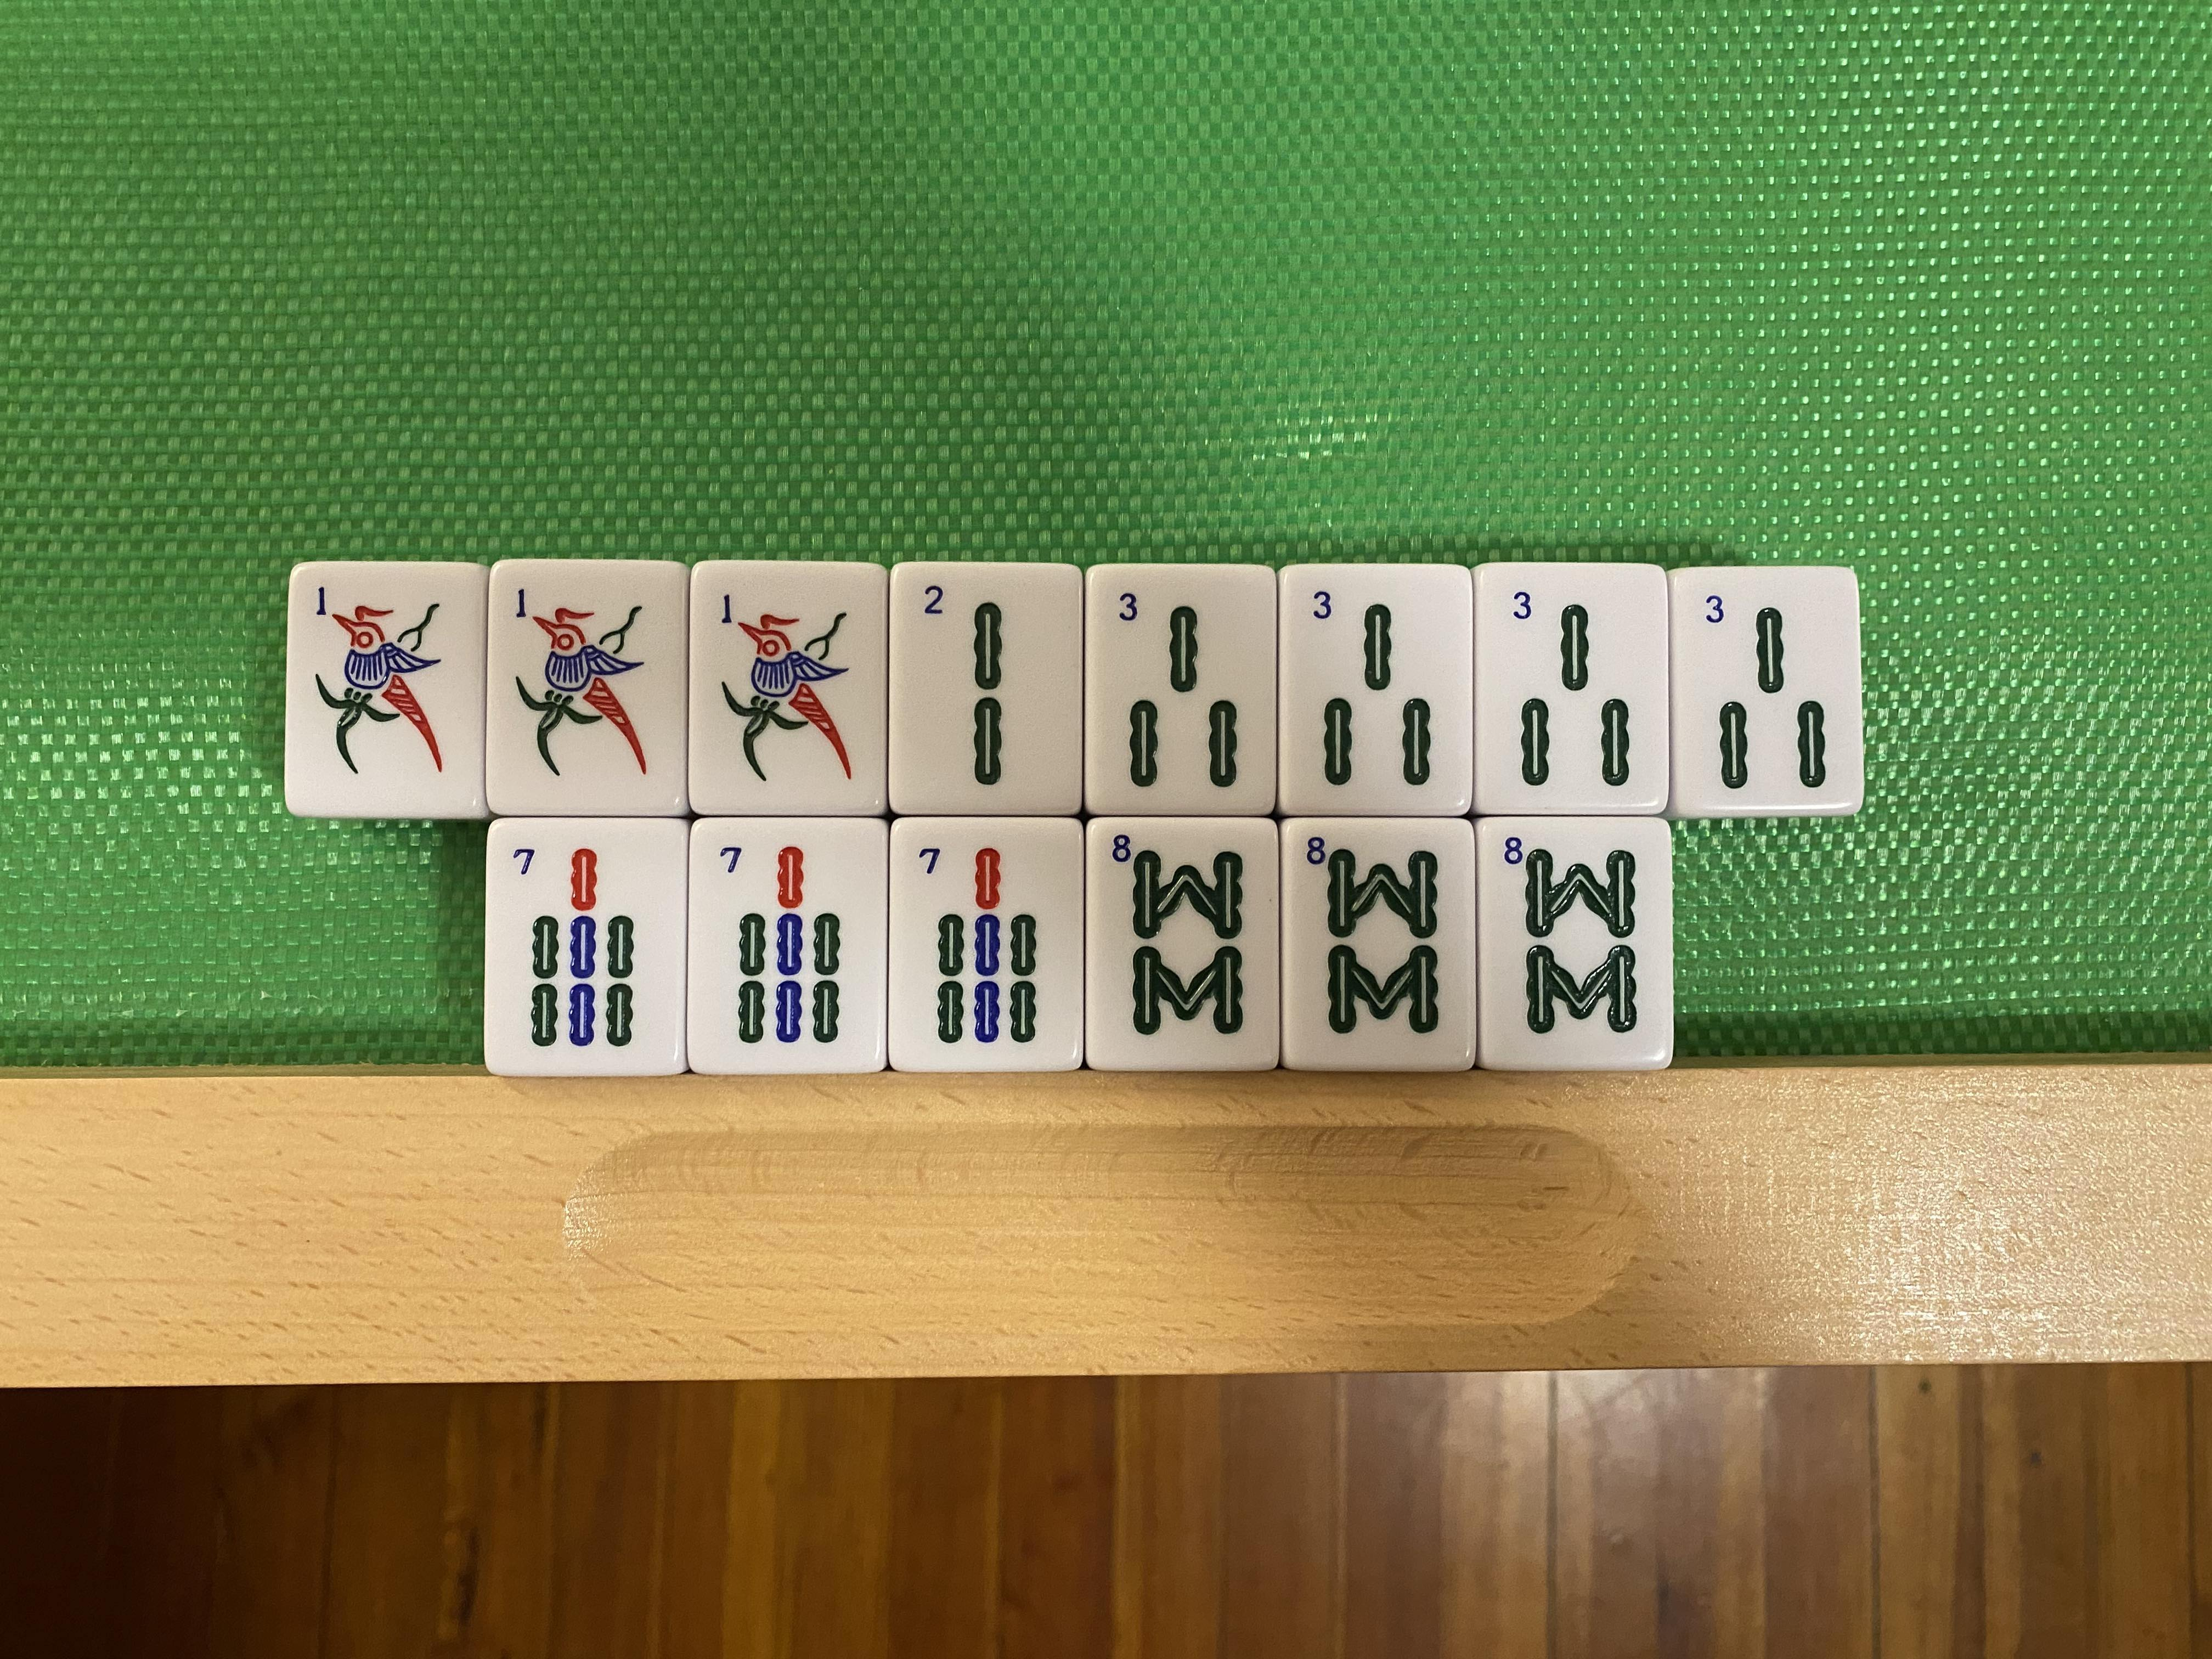bamboo-eight: (1085, 821, 1278, 1070), (1480, 819, 1670, 1066), (1287, 819, 1472, 1066)
bamboo-one: (491, 566, 683, 814), (291, 565, 482, 812), (693, 568, 883, 807)
bamboo-seven: (688, 823, 887, 1072), (488, 823, 685, 1072), (892, 819, 1085, 1070)
bamboo-three: (1282, 568, 1472, 814), (1477, 566, 1663, 810), (1085, 570, 1271, 812), (1676, 570, 1855, 810)
bamboo-two: (892, 568, 1082, 814)
